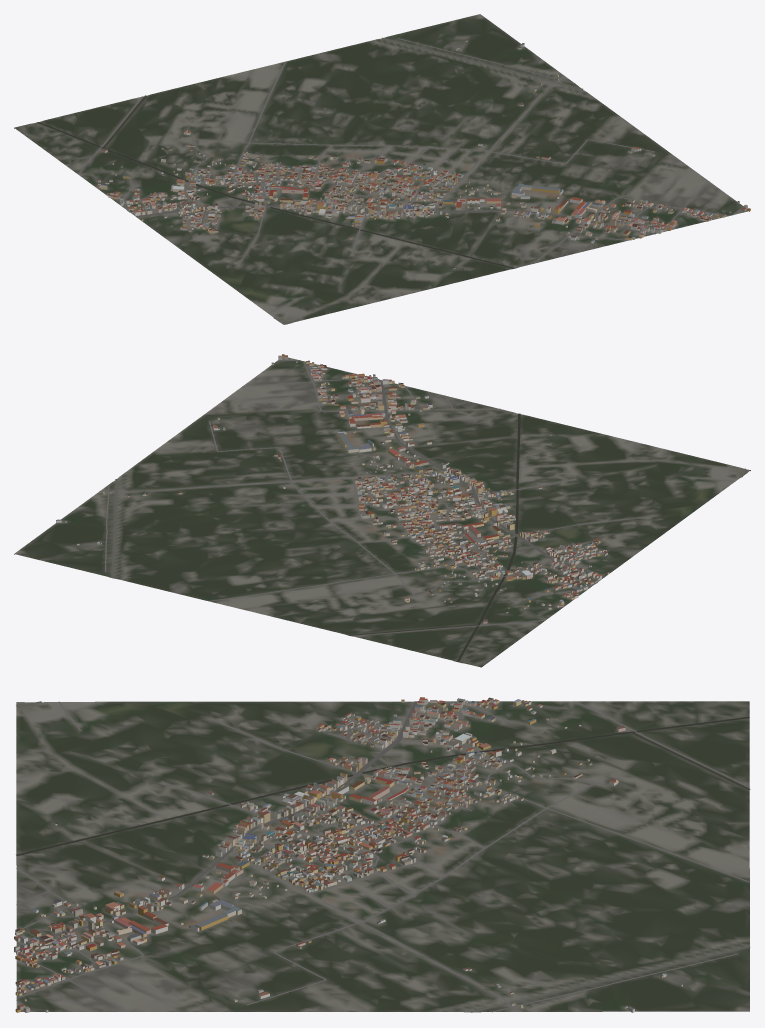
3 views of the same model, one above another, from view 1: azimuth 30°, elevation 25°; view 2: azimuth 150°, elevation 25°; view 3: azimuth 270°, elevation 25° (orthographic). The views are drawn at different scales.
Visible parts, largest first — view 1: ground, buildings, roads, water; view 2: ground, buildings, roads, water; view 3: ground, buildings, roads, water.
Part boxes in pixels (bbox=[...]): ground: bbox=[14, 14, 749, 324]; buildings: bbox=[97, 40, 750, 269]; roads: bbox=[78, 38, 743, 313]; water: bbox=[37, 37, 582, 323]; ground: bbox=[14, 357, 750, 667]; buildings: bbox=[56, 354, 609, 623]; roads: bbox=[99, 360, 735, 636]; water: bbox=[111, 413, 745, 661]; ground: bbox=[16, 701, 749, 1012]; buildings: bbox=[14, 697, 682, 1012]; roads: bbox=[16, 701, 749, 1012]; water: bbox=[16, 701, 750, 1012].
Bounding box in the file's own units: 1411 × 22.39 × 1409.
